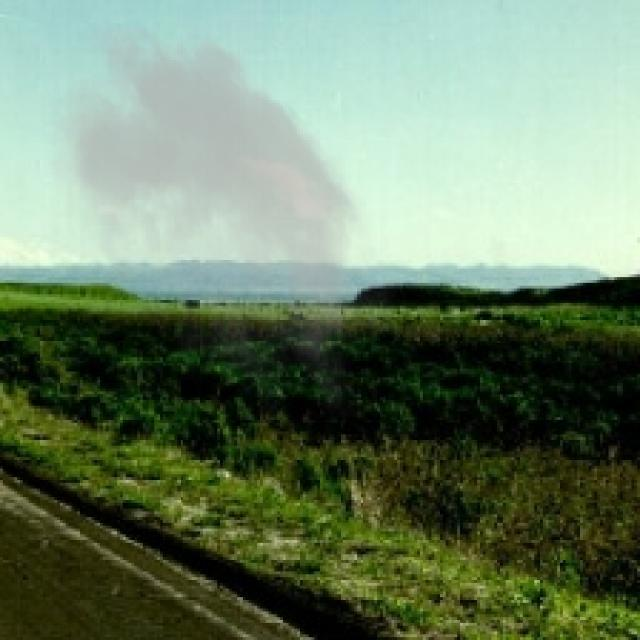Smoke: (31, 9, 403, 418)
